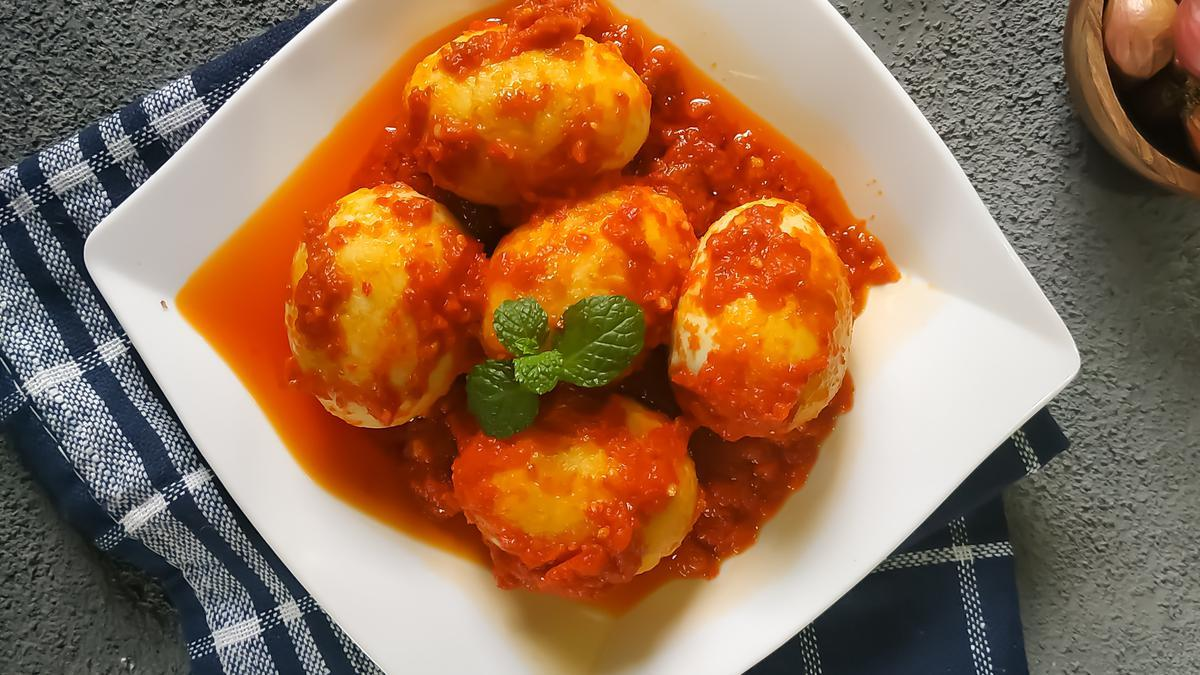telur: (284, 135, 837, 522)
